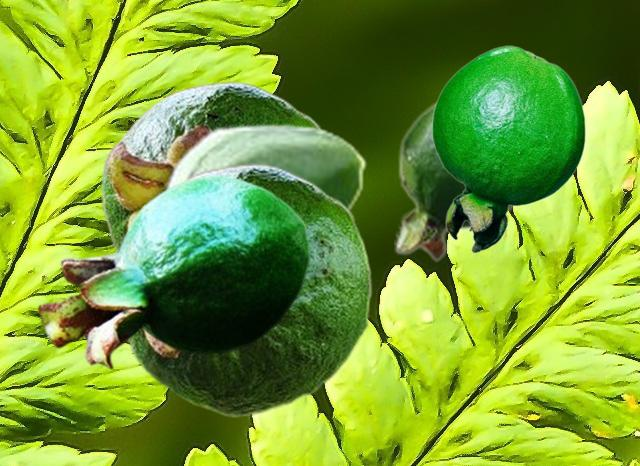guava: (115, 163, 372, 417), (37, 173, 310, 369), (100, 81, 324, 251), (431, 45, 585, 252), (120, 122, 366, 242), (394, 96, 516, 262)
